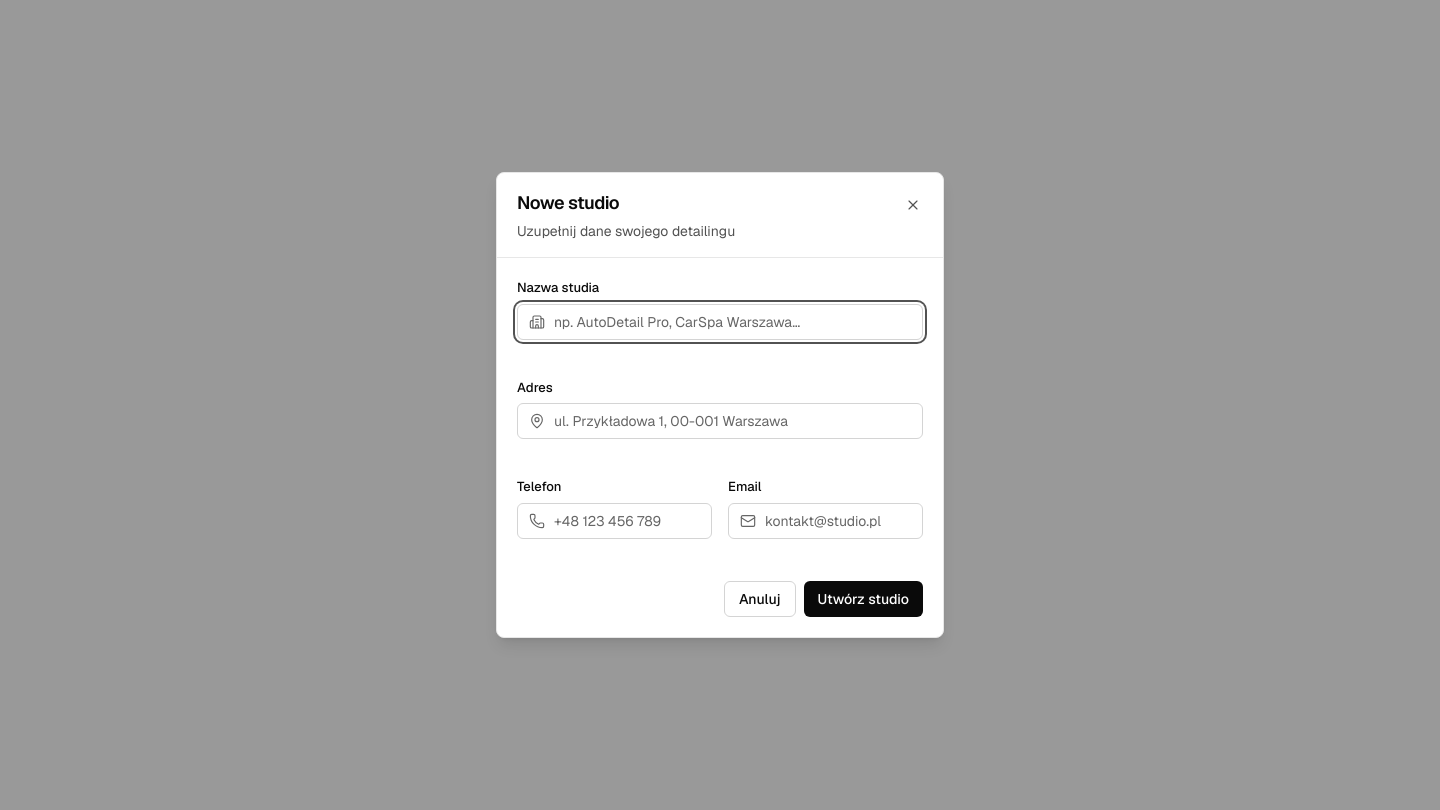
it: CreateStudioModal › requires a name
Click the button "Utwórz studio".
click(863, 599)  # box [804, 581, 923, 617]
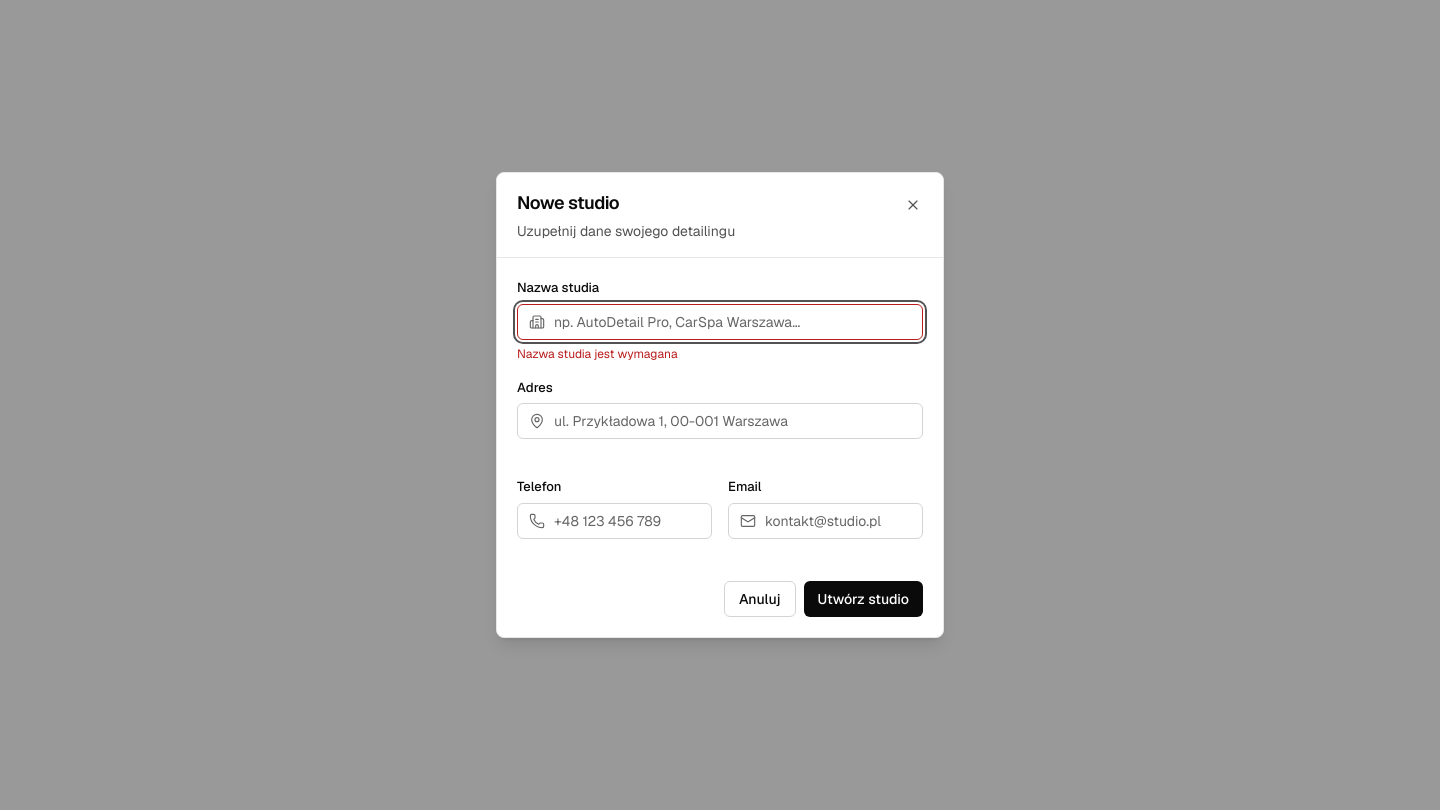
Result: the text "Nazwa studia jest wymagana" is shown at [517, 346, 678, 362]
